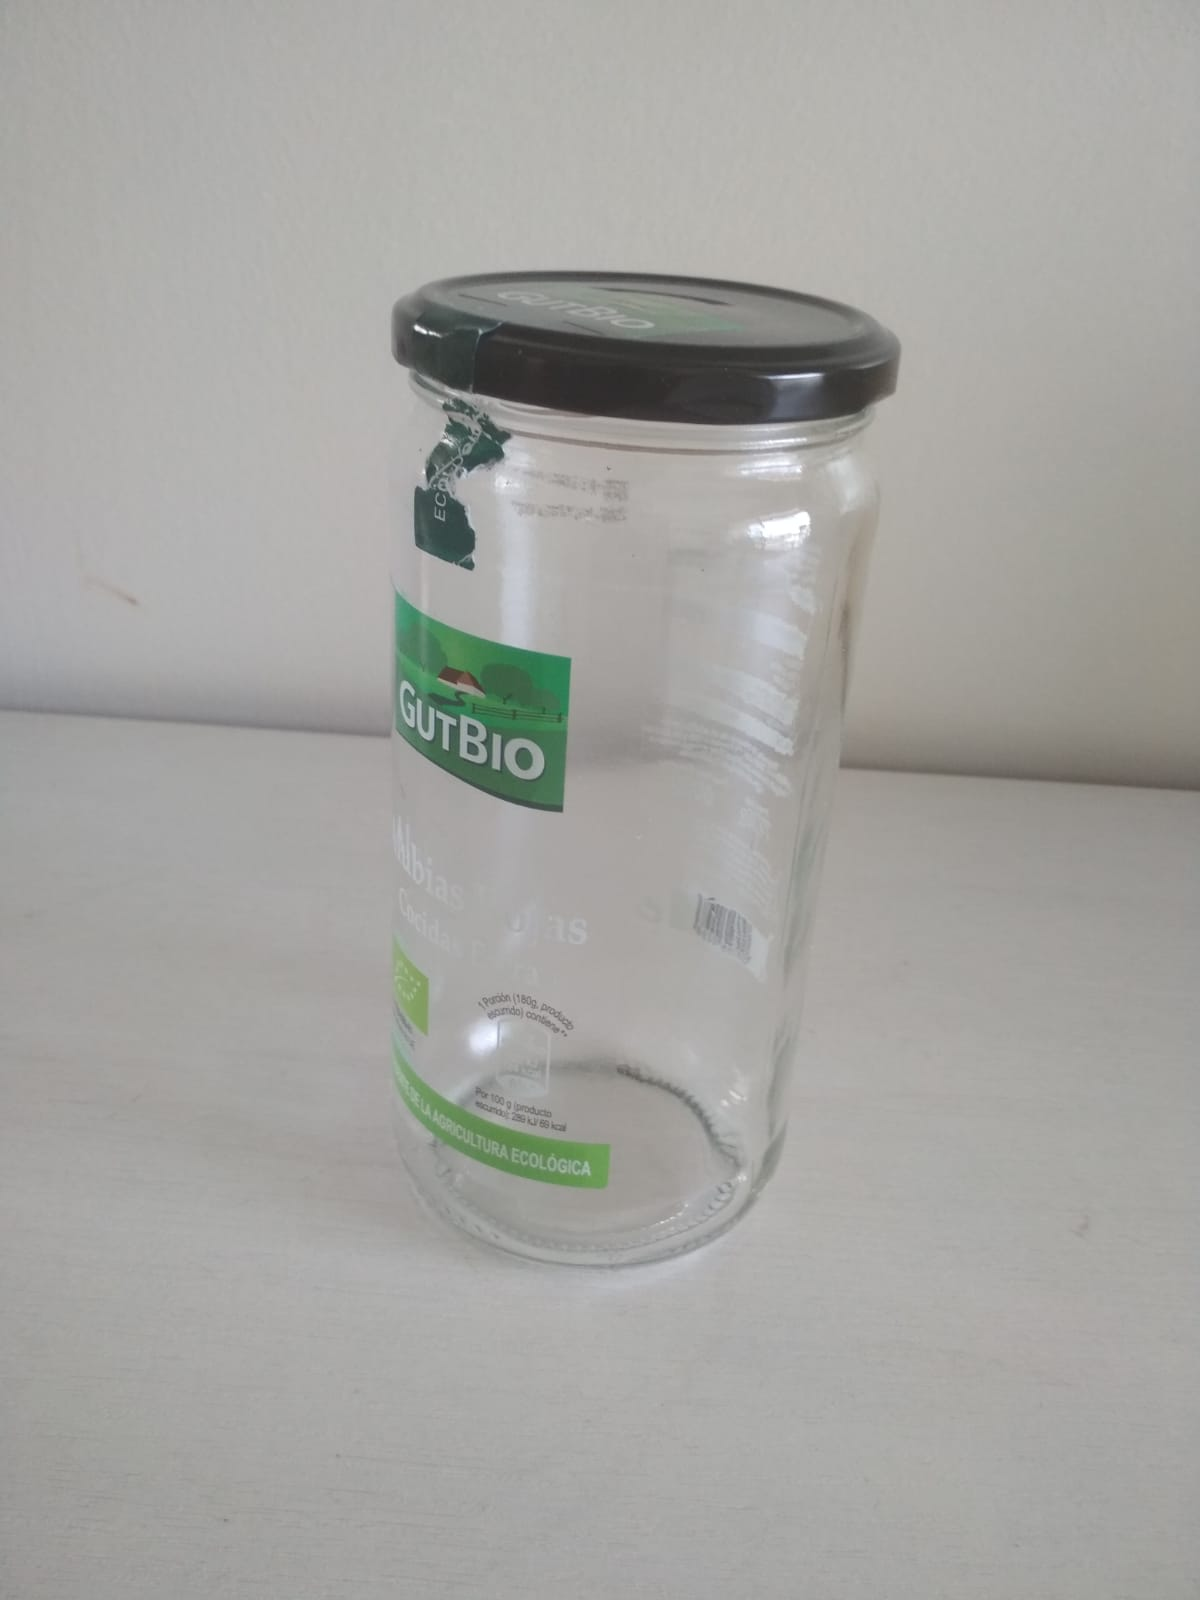pote cristal: (386, 271, 906, 1260)
